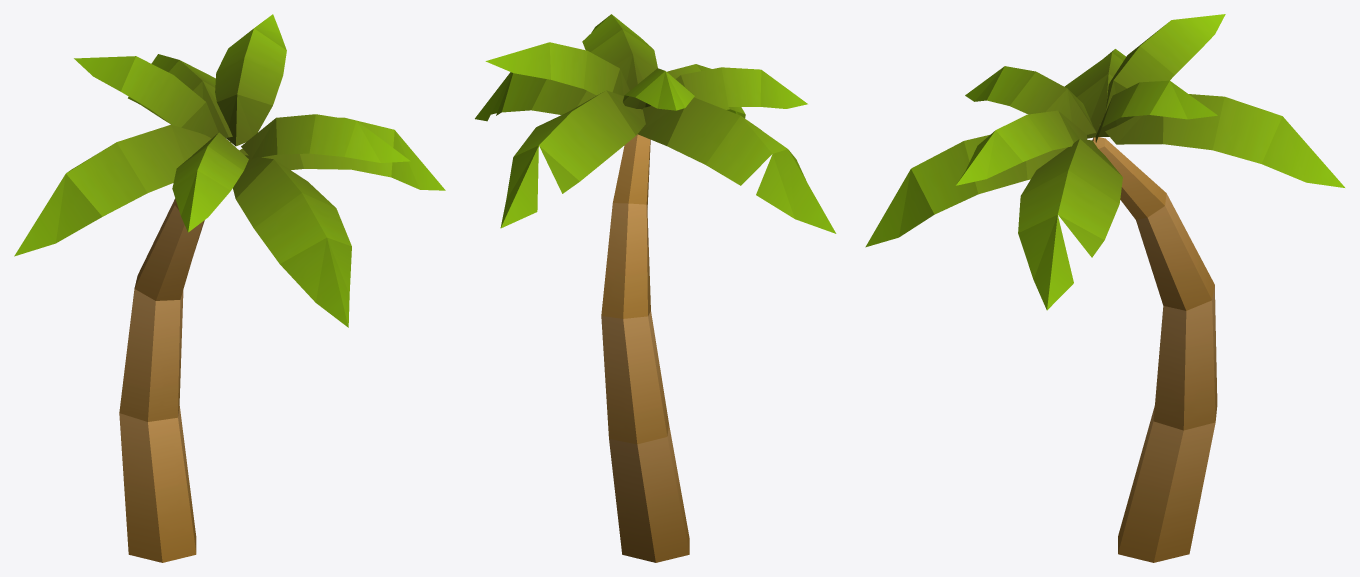
The model's file is Palm_Tree_A.fbx.
3 renders of one model, left to right at view 1: azimuth 30°, elevation 25°; view 2: azimuth 150°, elevation 25°; view 3: azimuth 270°, elevation 25°, orthographic. The views are drawn at different scales.
Visible parts, largest first — view 1: Palm_Tree_A; view 2: Palm_Tree_A; view 3: Palm_Tree_A.
Part boxes in pixels (x1,y1,x2,y2): Palm_Tree_A: [14, 14, 445, 562]; Palm_Tree_A: [475, 14, 836, 562]; Palm_Tree_A: [865, 14, 1344, 562].
Size of the model in its own units: 295 by 292 by 346.
Materials: 1 (1 with a texture image).
